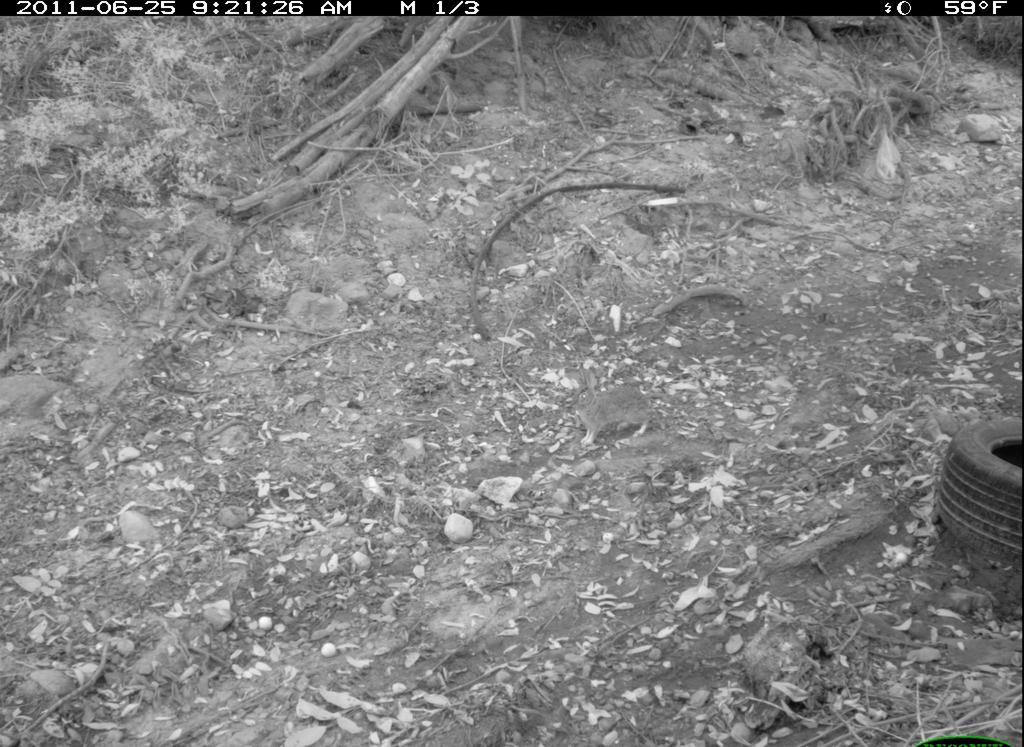rabbit: (568, 360, 666, 451)
